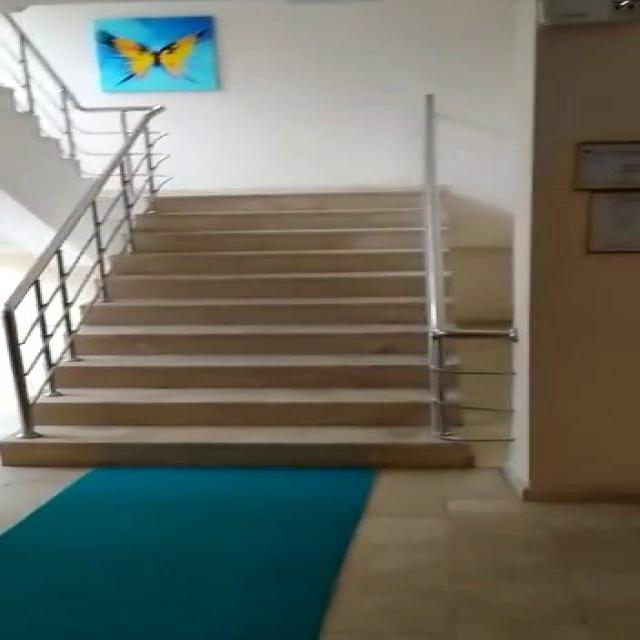upstair: (133, 192, 412, 459)
